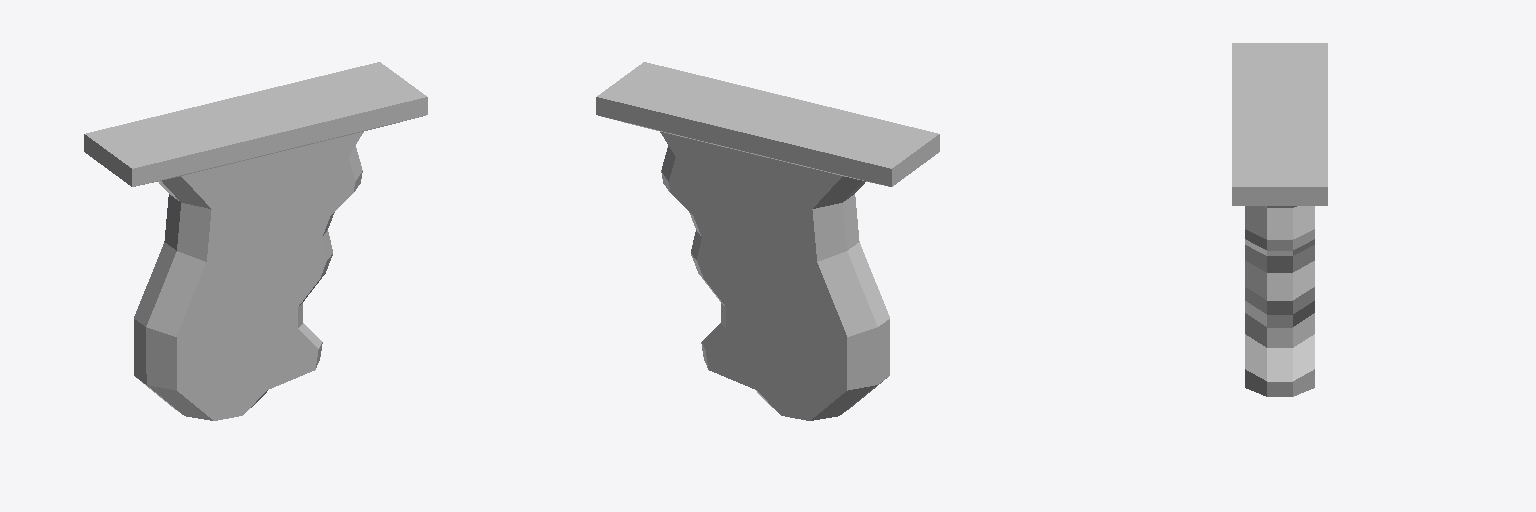
File: grip_ergo.obj
3 renders of one model, left to right at view 1: azimuth 30°, elevation 25°; view 2: azimuth 150°, elevation 25°; view 3: azimuth 270°, elevation 25°, orthographic.
Visible parts, largest first — view 1: attachmentModel; view 2: attachmentModel; view 3: attachmentModel.
Part boxes in pixels (bbox=[...]): attachmentModel: bbox=[84, 62, 427, 420]; attachmentModel: bbox=[596, 62, 939, 420]; attachmentModel: bbox=[1232, 43, 1327, 396].
Size of the model in its own units: 2.36 by 2.15 by 0.6627.